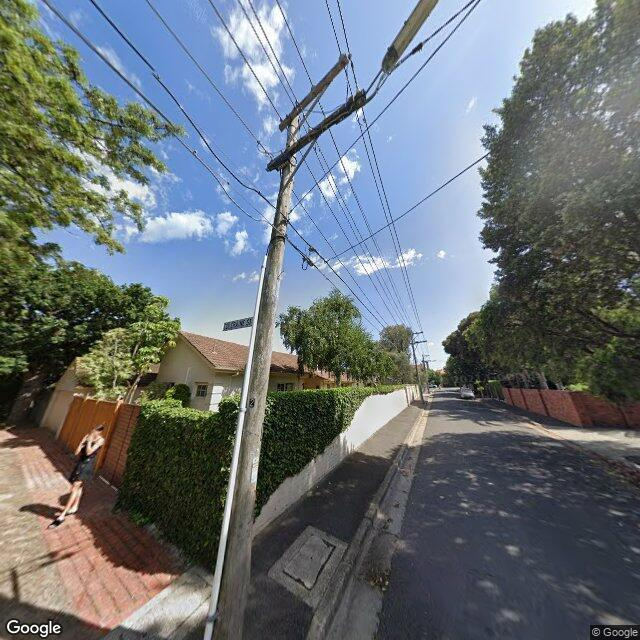crossarm: (265, 88, 367, 171), (279, 56, 349, 129), (410, 340, 428, 344), (412, 332, 424, 334)
streetlight: (368, 0, 439, 99)
timber-pole: (211, 112, 301, 640), (412, 334, 425, 403)
